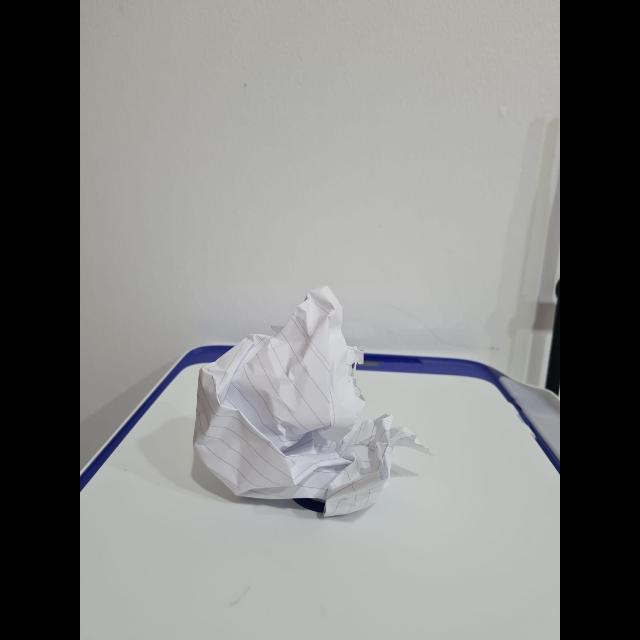scrap_paper: (203, 302, 394, 504)
